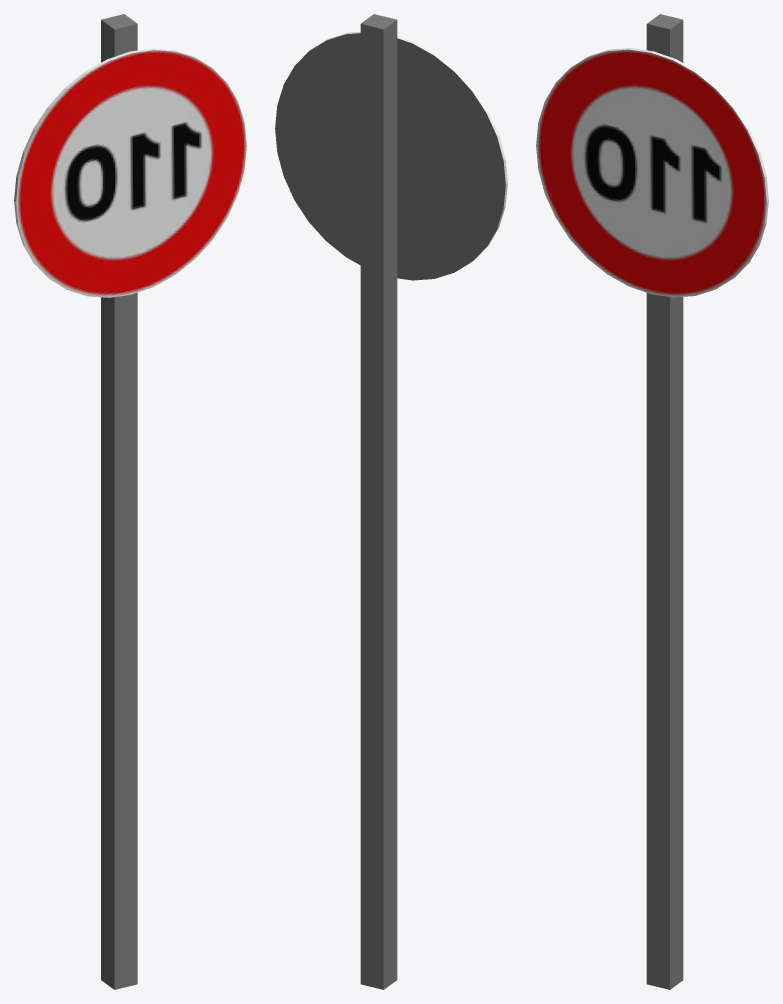
File: 110Limit.obj
The picture shows the model from 3 angles, left to right: view 1: azimuth 30°, elevation 25°; view 2: azimuth 150°, elevation 25°; view 3: azimuth 330°, elevation 25°; orthographic projection.
Parts seen in each view (by area): view 1: Sign_SpeedLimit_110; view 2: Sign_SpeedLimit_110; view 3: Sign_SpeedLimit_110.
Part boxes in pixels (<box>): Sign_SpeedLimit_110: <box>14,14,246,989</box>; Sign_SpeedLimit_110: <box>275,14,507,989</box>; Sign_SpeedLimit_110: <box>536,14,768,989</box>.
Size of the model in its own units: 1.12 by 4.44 by 0.1642.
Materials: 1 (1 with a texture image).
